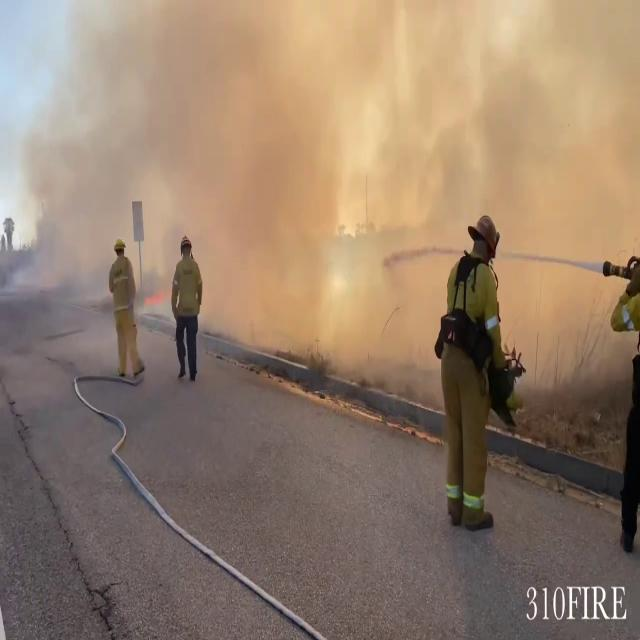Smoke: (16, 0, 610, 380)
